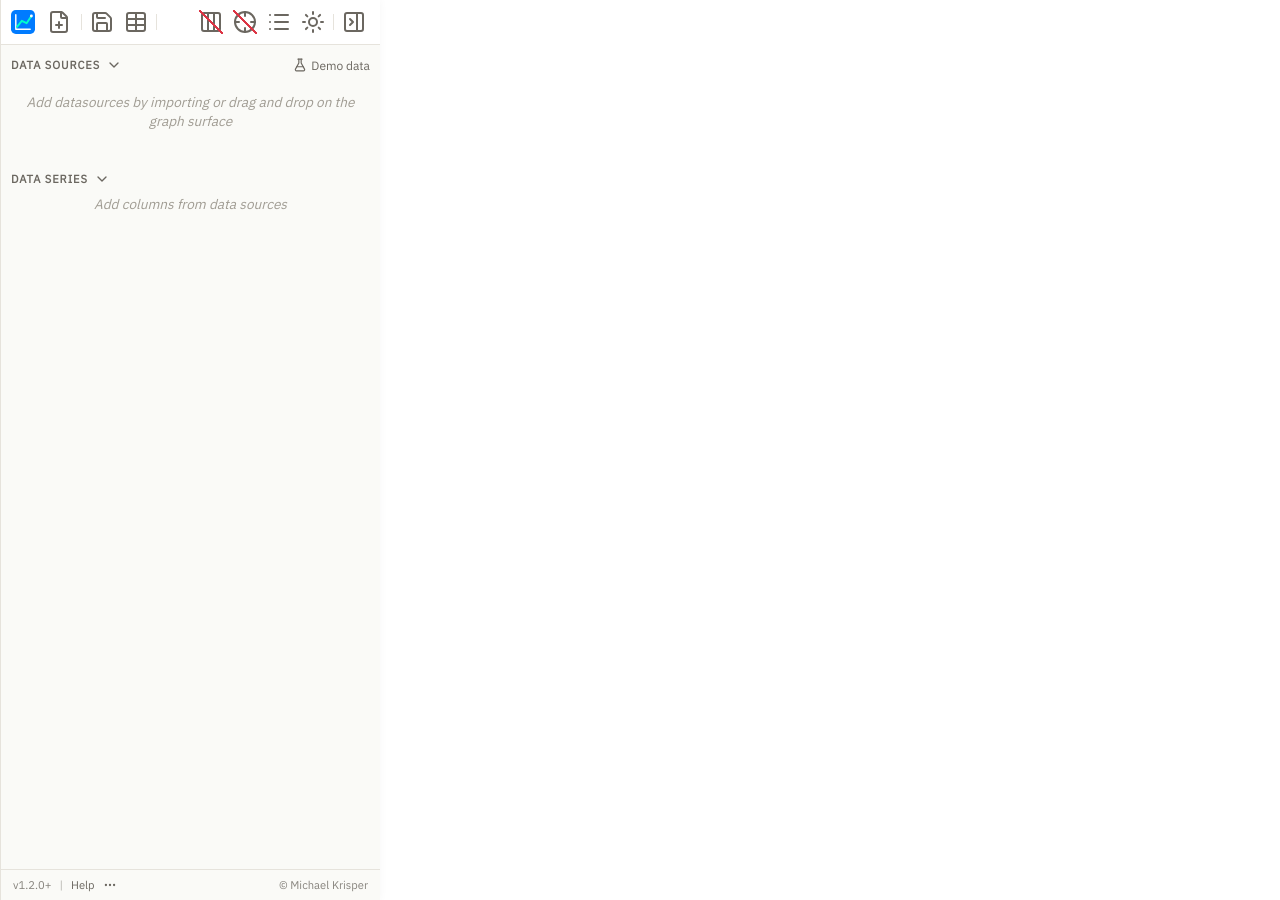
Test case: Sidebar Component › image export › opens the options dialog and exports with its choices
Click the button named "Session & Export" at point(102, 22), box x1=86 y1=6 x2=118 y2=38
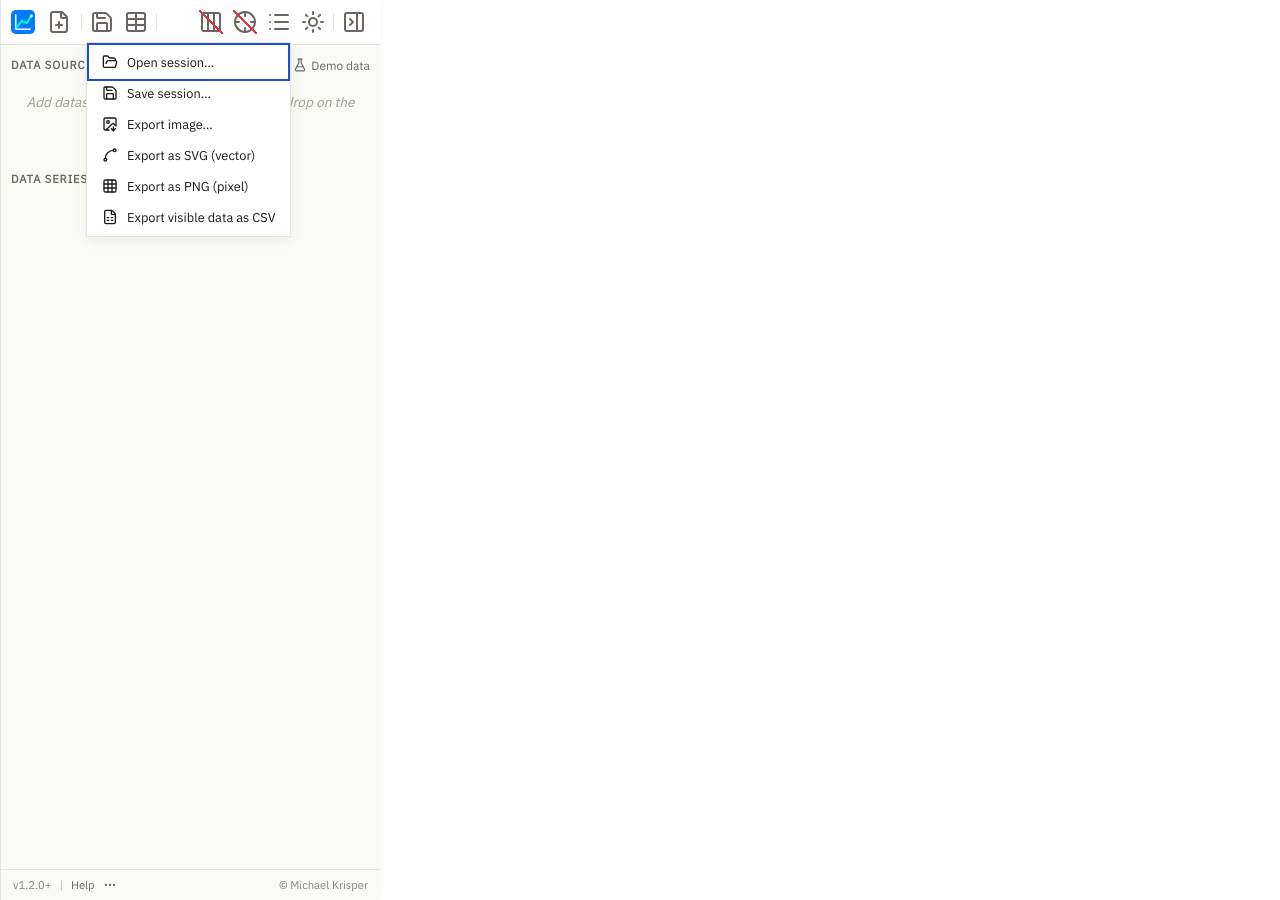
Click the button "Export image…" at point(188, 124), box x1=91 y1=109 x2=286 y2=139
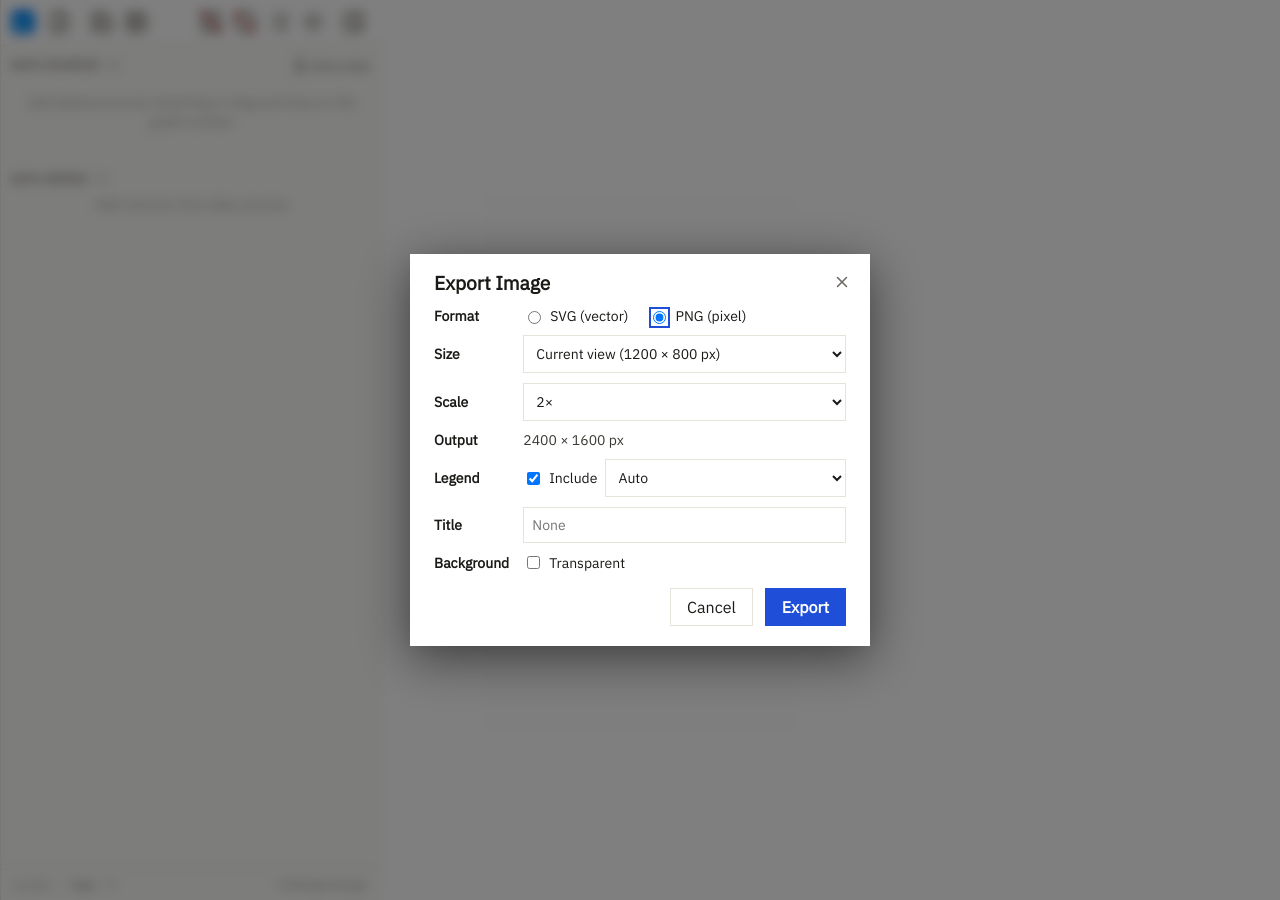
Now the dialog "Export Image" is shown, box x1=410 y1=254 x2=870 y2=646
Type "Run 7" into the field labelled "Title" at point(685, 525), box x1=523 y1=507 x2=846 y2=543
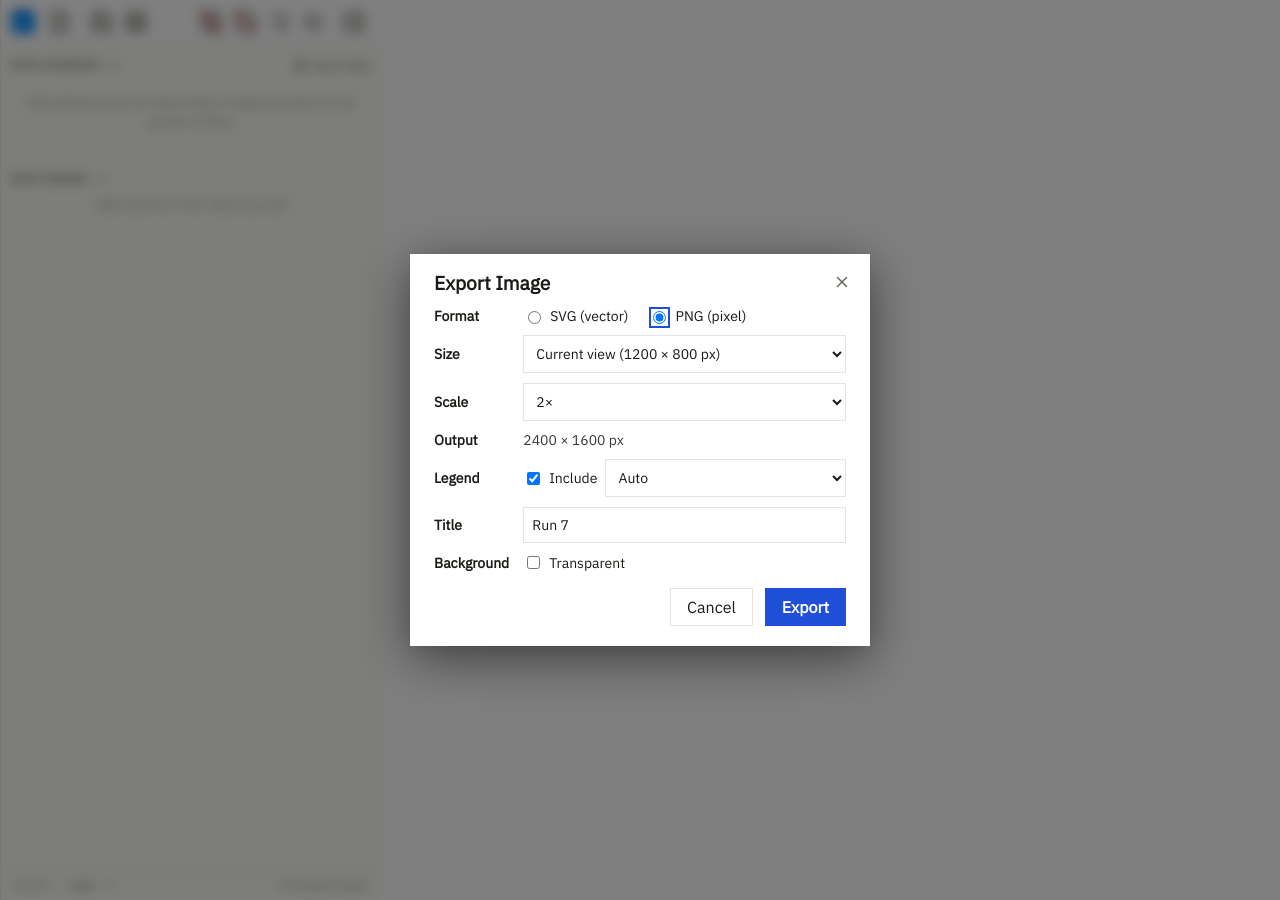
Click the radio button labelled "SVG (vector)" at point(535, 318), box x1=528 y1=311 x2=541 y2=324
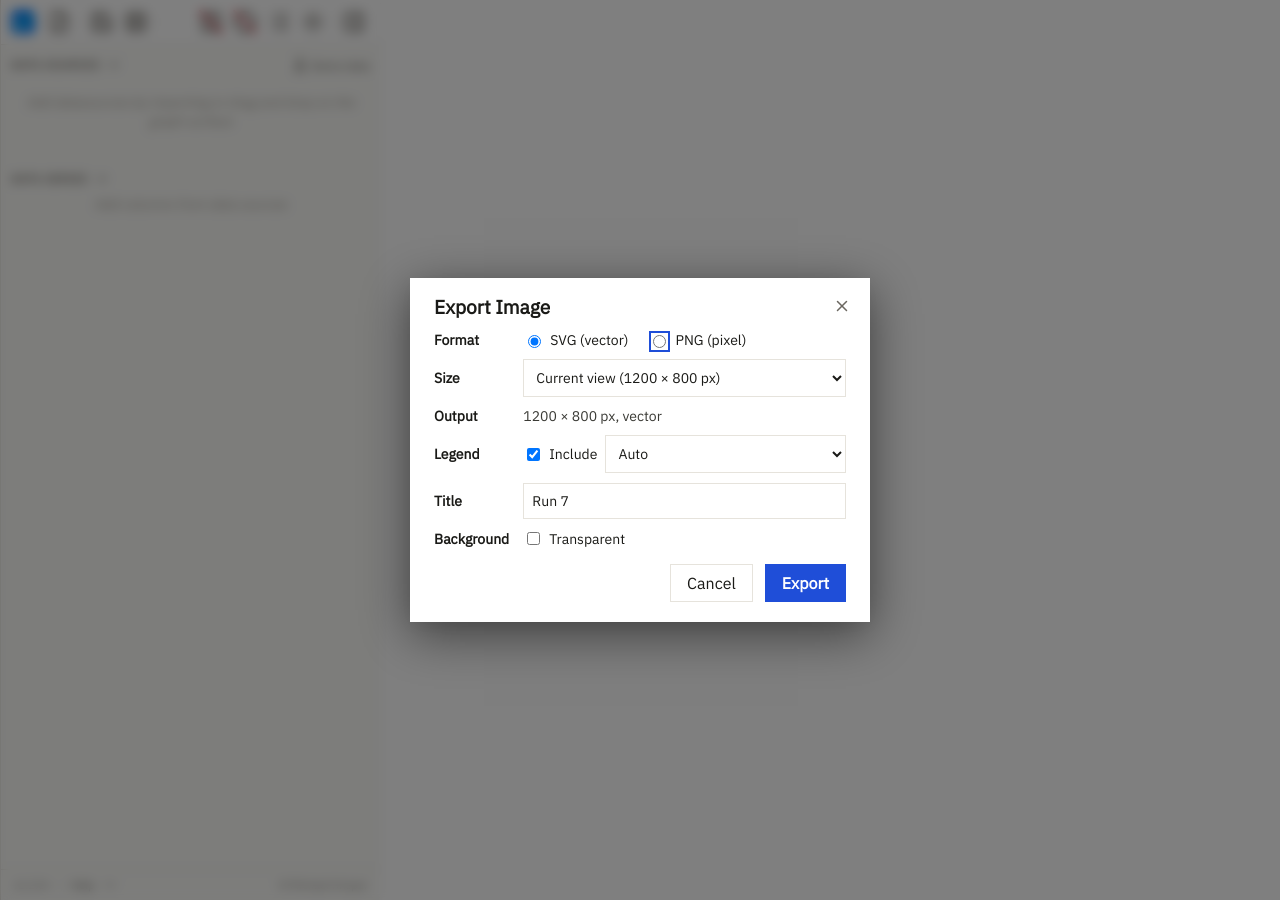
Click the button "Export" at point(805, 583), box x1=765 y1=564 x2=846 y2=602
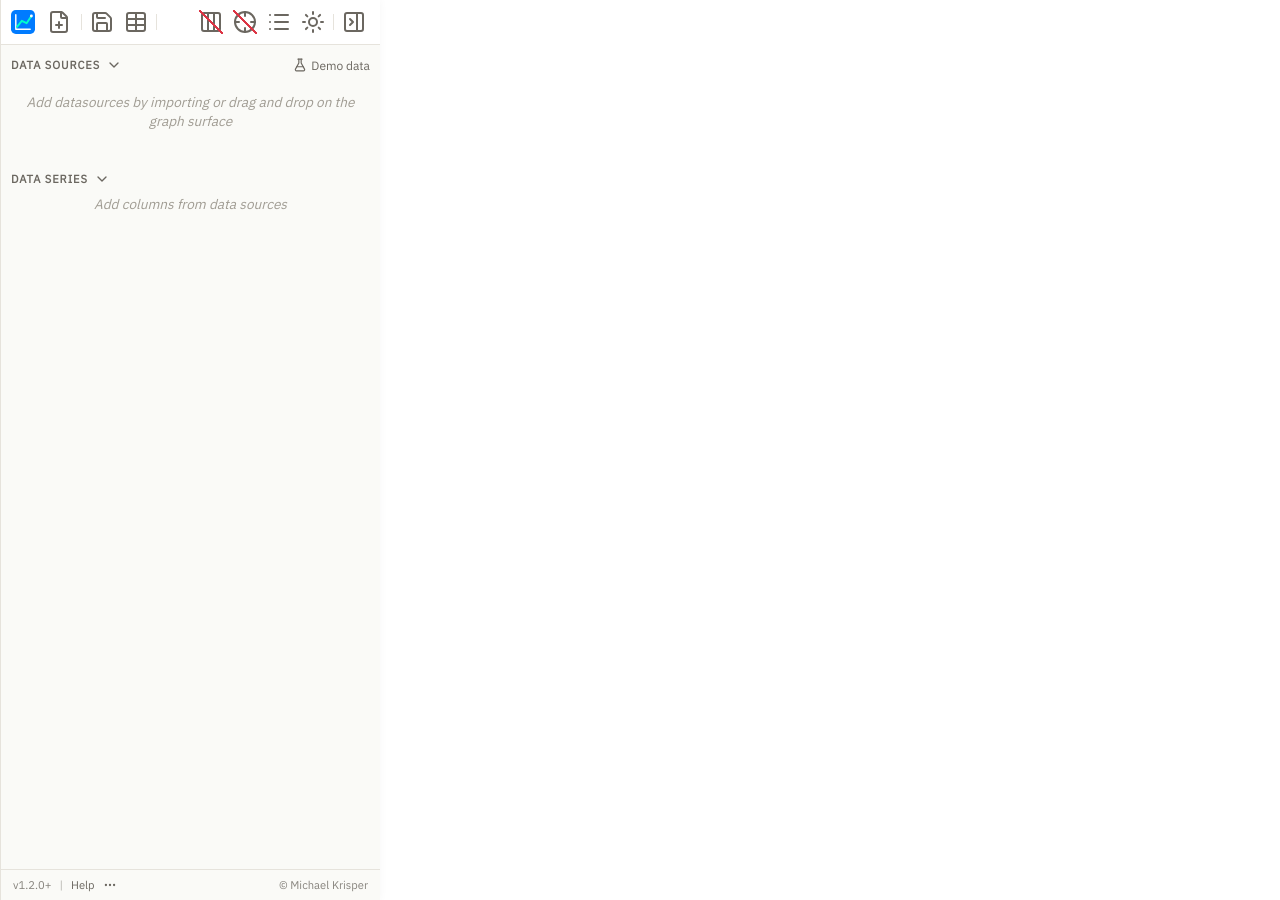
Now the dialog is gone
